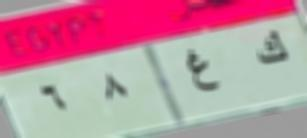6: (33, 78, 70, 115)
8: (102, 69, 129, 105)
ghayn: (184, 46, 219, 99)
kaaf: (249, 28, 293, 71)
